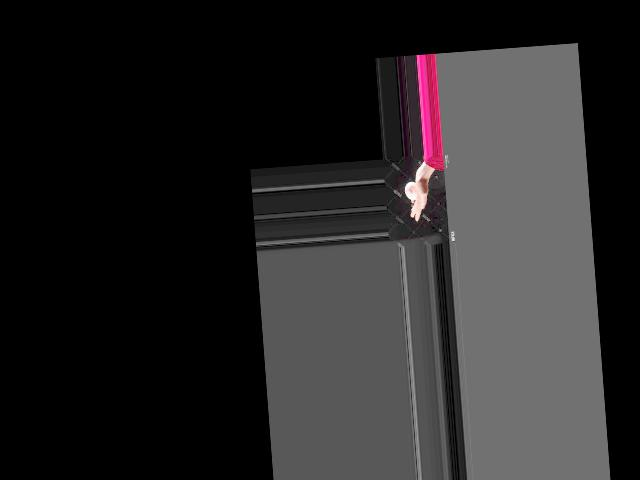egg: (404, 180, 417, 199)
